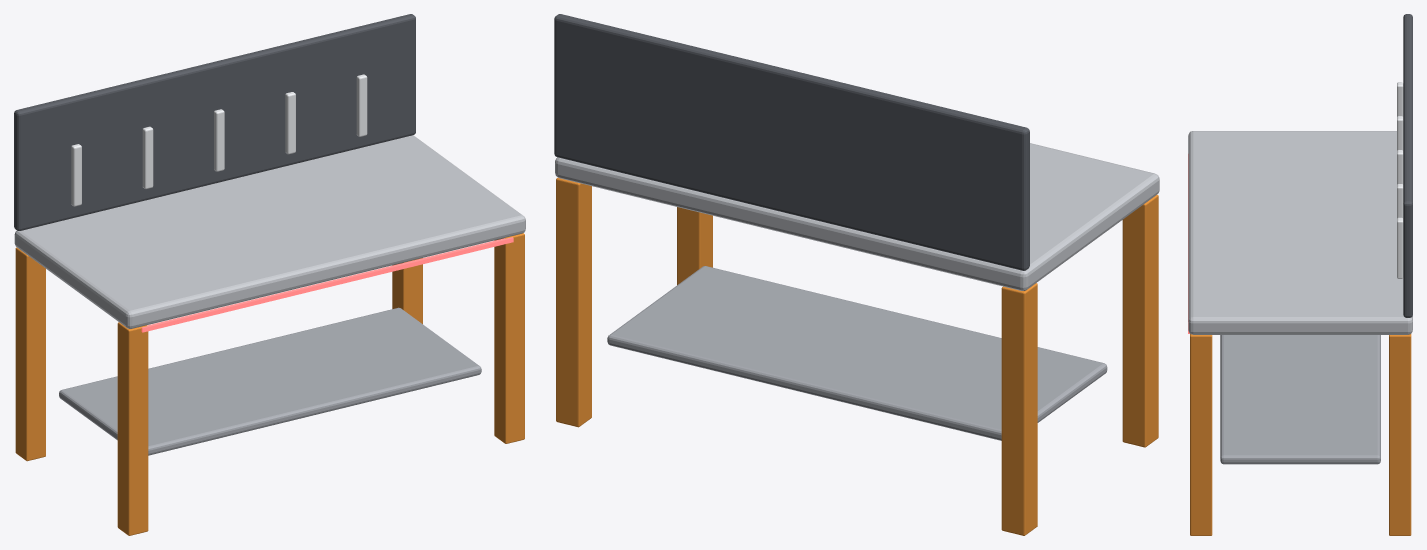
The model's file is desk_workbench.glb.
The picture shows the model from 3 angles, left to right: view 1: azimuth 30°, elevation 25°; view 2: azimuth 150°, elevation 25°; view 3: azimuth 270°, elevation 25°; orthographic projection. The views are drawn at different scales.
Visible parts, largest first — view 1: GD_desk_workbench__m0, GD_desk_workbench__m5, GD_desk_workbench__m4, GD_desk_workbench__m1, GD_desk_workbench__m2, GD_desk_workbench__m3; view 2: GD_desk_workbench__m5, GD_desk_workbench__m4, GD_desk_workbench__m1, GD_desk_workbench__m0; view 3: GD_desk_workbench__m0, GD_desk_workbench__m4, GD_desk_workbench__m1, GD_desk_workbench__m5, GD_desk_workbench__m2.
Boxes of the visible parts, <box> form: GD_desk_workbench__m0: <box>14,135,525,328</box>; GD_desk_workbench__m5: <box>14,14,415,230</box>; GD_desk_workbench__m4: <box>59,307,481,455</box>; GD_desk_workbench__m1: <box>15,233,524,535</box>; GD_desk_workbench__m2: <box>71,74,367,206</box>; GD_desk_workbench__m3: <box>141,237,513,332</box>; GD_desk_workbench__m5: <box>554,14,1029,270</box>; GD_desk_workbench__m4: <box>607,266,1107,440</box>; GD_desk_workbench__m1: <box>556,177,1158,535</box>; GD_desk_workbench__m0: <box>555,143,1159,290</box>; GD_desk_workbench__m0: <box>1188,131,1412,334</box>; GD_desk_workbench__m4: <box>1220,335,1380,464</box>; GD_desk_workbench__m1: <box>1190,334,1411,535</box>; GD_desk_workbench__m5: <box>1403,14,1412,317</box>; GD_desk_workbench__m2: <box>1397,82,1403,278</box>.
Size of the model in its own units: 1.4 by 1.15 by 0.701.
